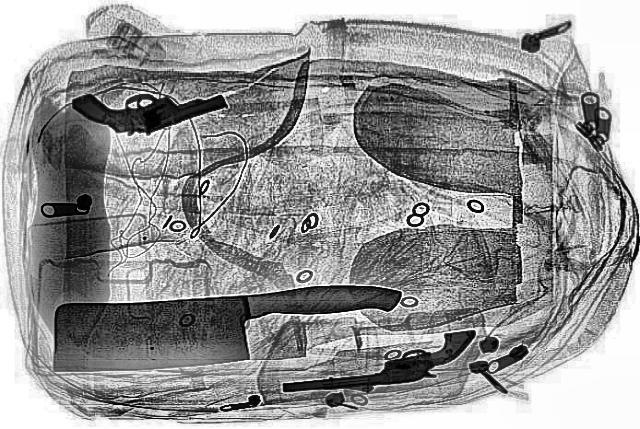Gun: (264, 325, 496, 412), (68, 78, 235, 140)
Knife: (34, 272, 418, 381)
